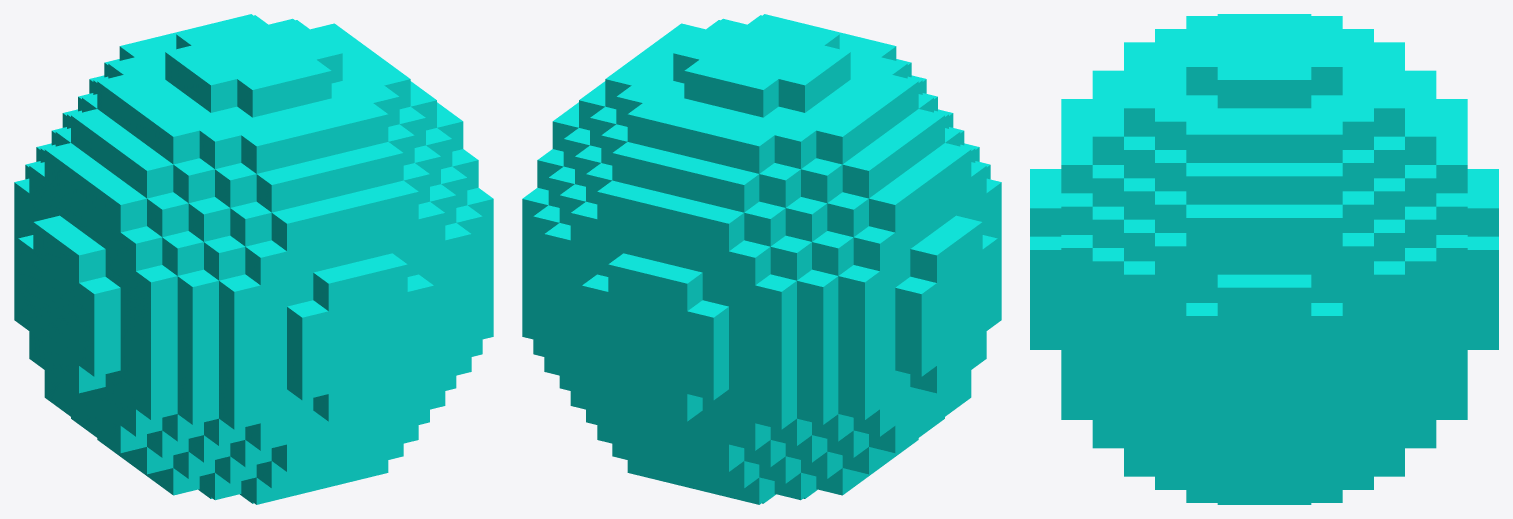
File: Cyan Ball.fbx
3 renders of one model, left to right at view 1: azimuth 30°, elevation 25°; view 2: azimuth 150°, elevation 25°; view 3: azimuth 270°, elevation 25°, orthographic. The views are drawn at different scales.
Visible parts, largest first — view 1: Untitled.001; view 2: Untitled.001; view 3: Untitled.001.
Part boxes in pixels (x1,y1,x2,y2): Untitled.001: (14, 14, 493, 504); Untitled.001: (522, 14, 1001, 504); Untitled.001: (1030, 14, 1498, 504).
Size of the model in its own units: 150 by 150 by 150.
